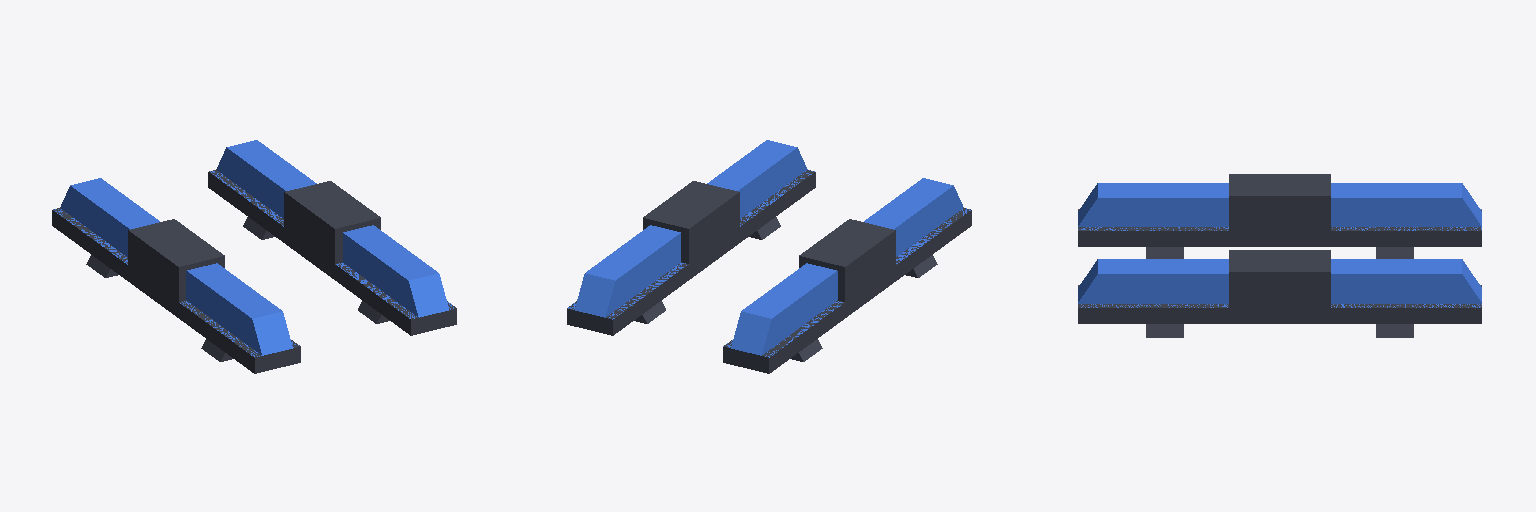
Rendered from TurretGuns.obj.
3 renders of one model, left to right at view 1: azimuth 30°, elevation 25°; view 2: azimuth 150°, elevation 25°; view 3: azimuth 270°, elevation 25°, orthographic.
Size of the model in its own units: 0.5254 by 0.1585 by 0.8976.